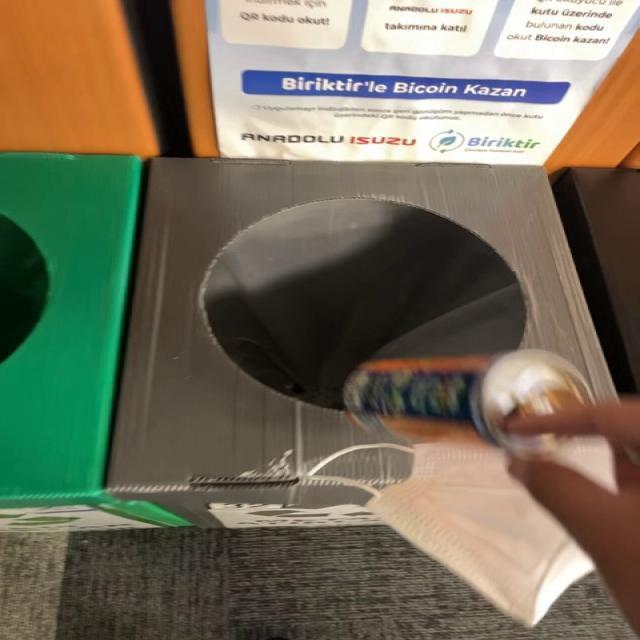Bin: (108, 158, 616, 526)
Metal: (344, 351, 593, 445)
